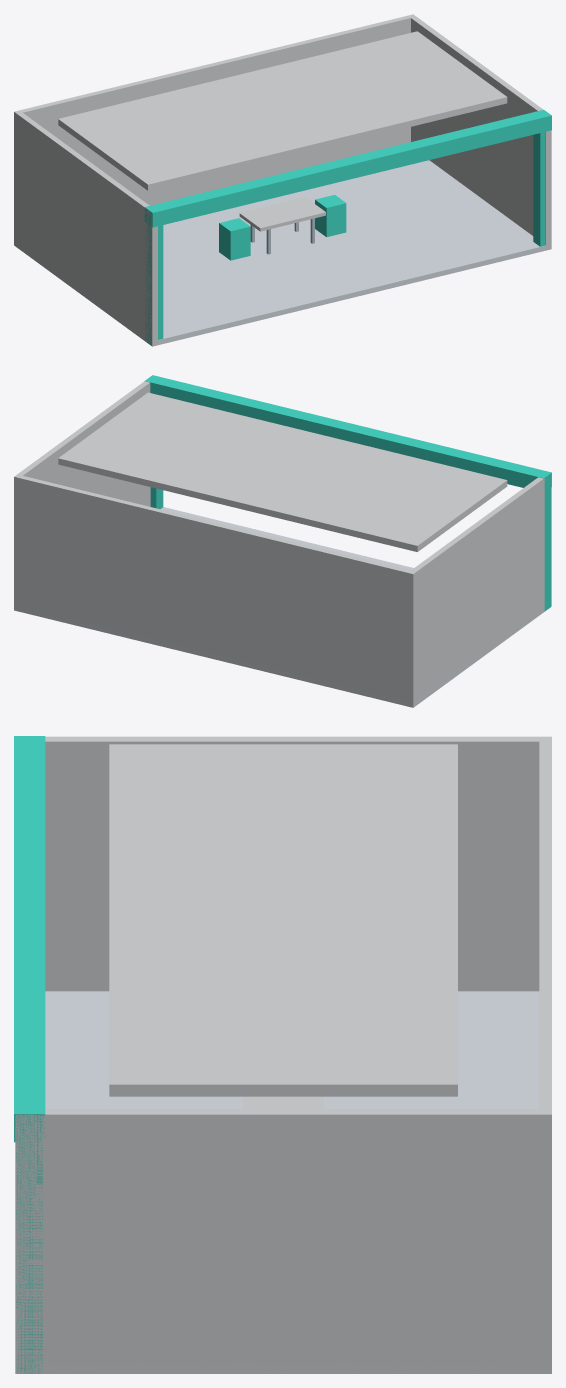
3 views of the same model, one above another, from view 1: azimuth 30°, elevation 25°; view 2: azimuth 150°, elevation 25°; view 3: azimuth 270°, elevation 25° (orthographic). The views are drawn at different scales.
Parts seen in each view (by area): view 1: Exhibition Booth Concept; view 2: Exhibition Booth Concept; view 3: Exhibition Booth Concept.
Boxes of the visible parts, x1,y1,x2,y2 form: Exhibition Booth Concept: [14, 14, 551, 346]; Exhibition Booth Concept: [14, 375, 551, 707]; Exhibition Booth Concept: [14, 736, 551, 1373].
Bounding box in the file's own units: 10 × 3.34 × 6.02.
